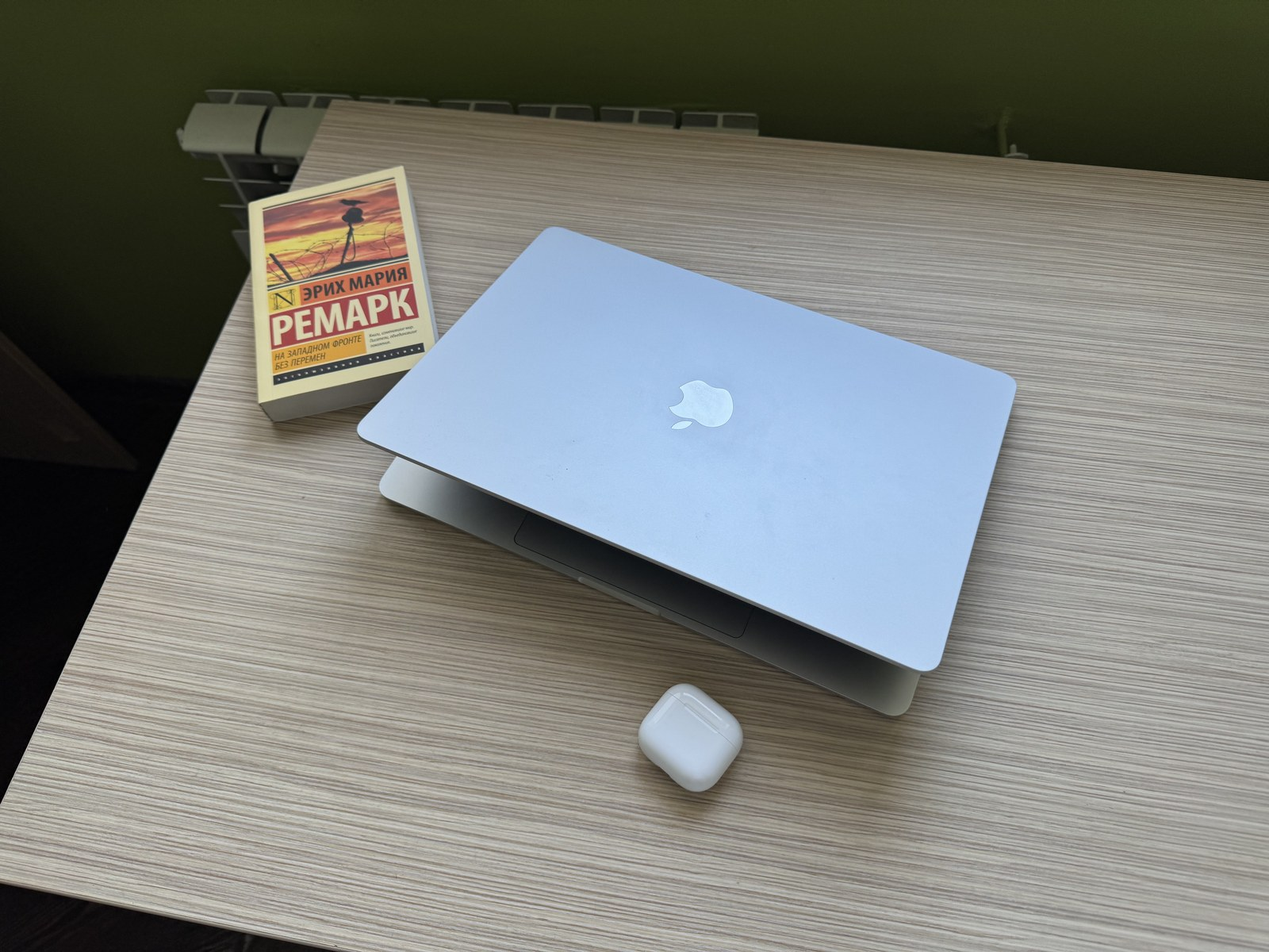laptop: (356, 225, 1018, 678)
